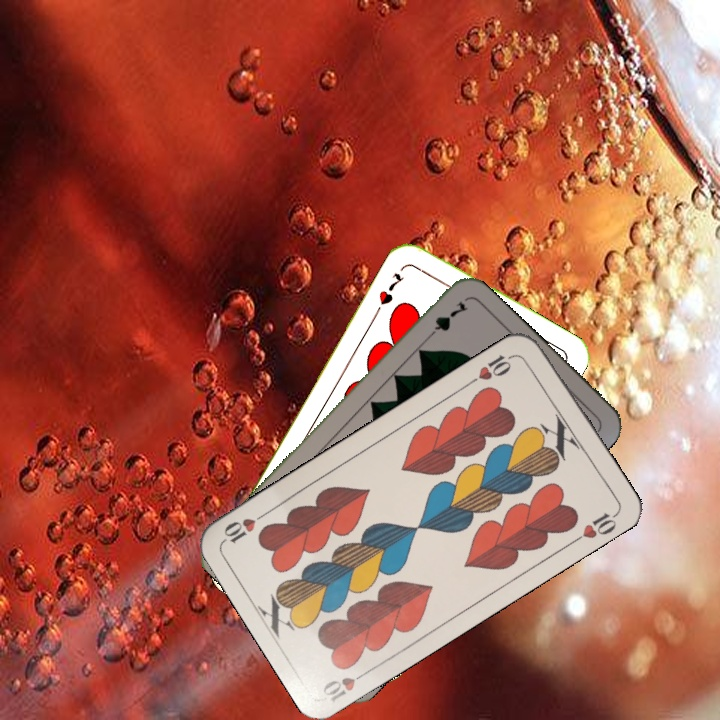G7: (421, 296, 472, 344)
H10: (318, 664, 374, 705), (465, 350, 519, 387)
H7: (374, 269, 408, 308)
